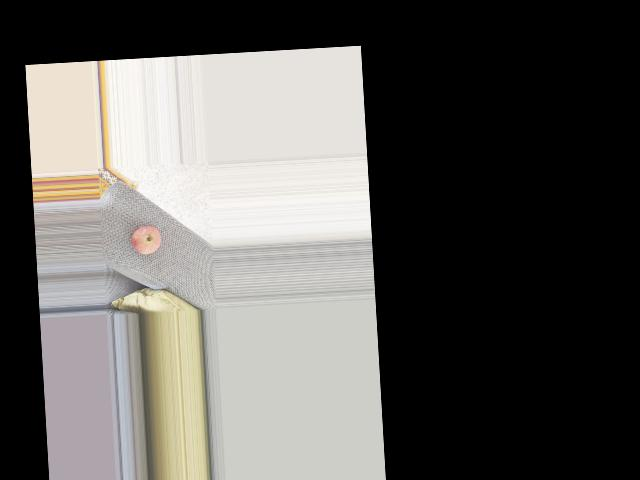apple: (127, 223, 160, 259)
